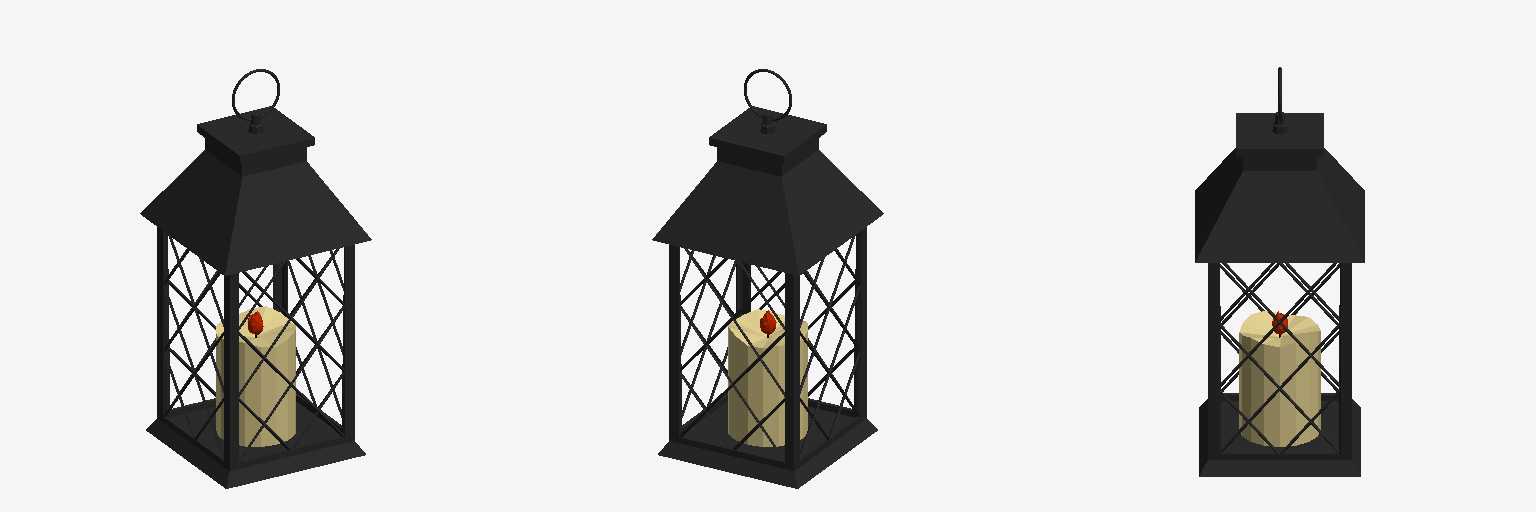
File: lantern.obj
The picture shows the model from 3 angles: view 1: azimuth 30°, elevation 25°; view 2: azimuth 150°, elevation 25°; view 3: azimuth 270°, elevation 25°; orthographic projection.
Visible parts, largest first — view 1: Candle.002_Cylinder.012; view 2: Candle.002_Cylinder.012; view 3: Candle.002_Cylinder.012.
Part boxes in pixels (left/top/right/bottom): Candle.002_Cylinder.012: left=140, top=69, right=371, bottom=488; Candle.002_Cylinder.012: left=652, top=69, right=883, bottom=488; Candle.002_Cylinder.012: left=1195, top=67, right=1364, bottom=476.
Size of the model in its own units: 0.7461 by 1.8 by 0.7461.